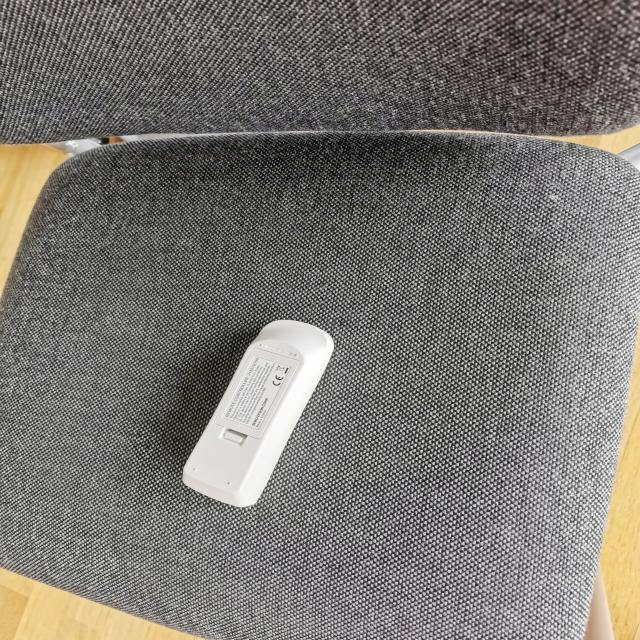remote: (174, 318, 334, 507)
